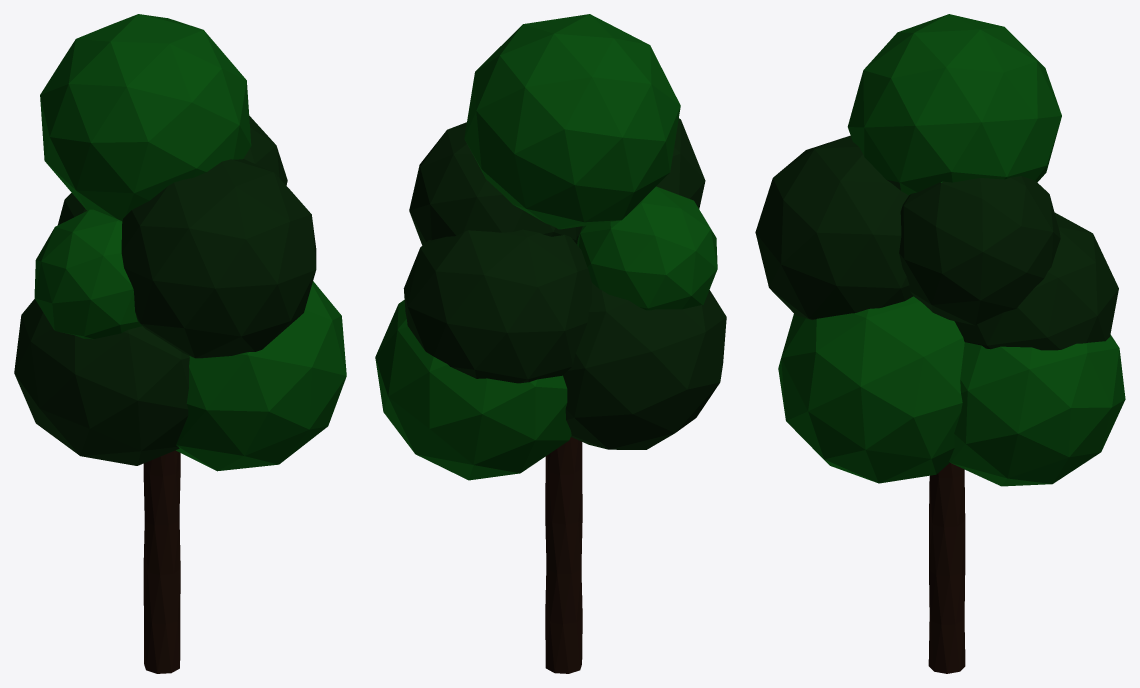
The model's file is Tree04.fbx.
3 views of the same model, side by side, from view 1: azimuth 30°, elevation 25°; view 2: azimuth 150°, elevation 25°; view 3: azimuth 270°, elevation 25° (orthographic). The views are drawn at different scales.
Parts seen in each view (by area): view 1: Crown, Trunk; view 2: Crown, Trunk; view 3: Crown, Trunk.
Part boxes in pixels (x1,y1,x2,y2): Crown: [14, 14, 346, 471]; Trunk: [143, 450, 180, 673]; Crown: [375, 14, 726, 480]; Trunk: [545, 437, 582, 673]; Crown: [755, 14, 1125, 486]; Trunk: [928, 463, 965, 673].
Bounding box in the file's own units: 157 × 343 × 182.
